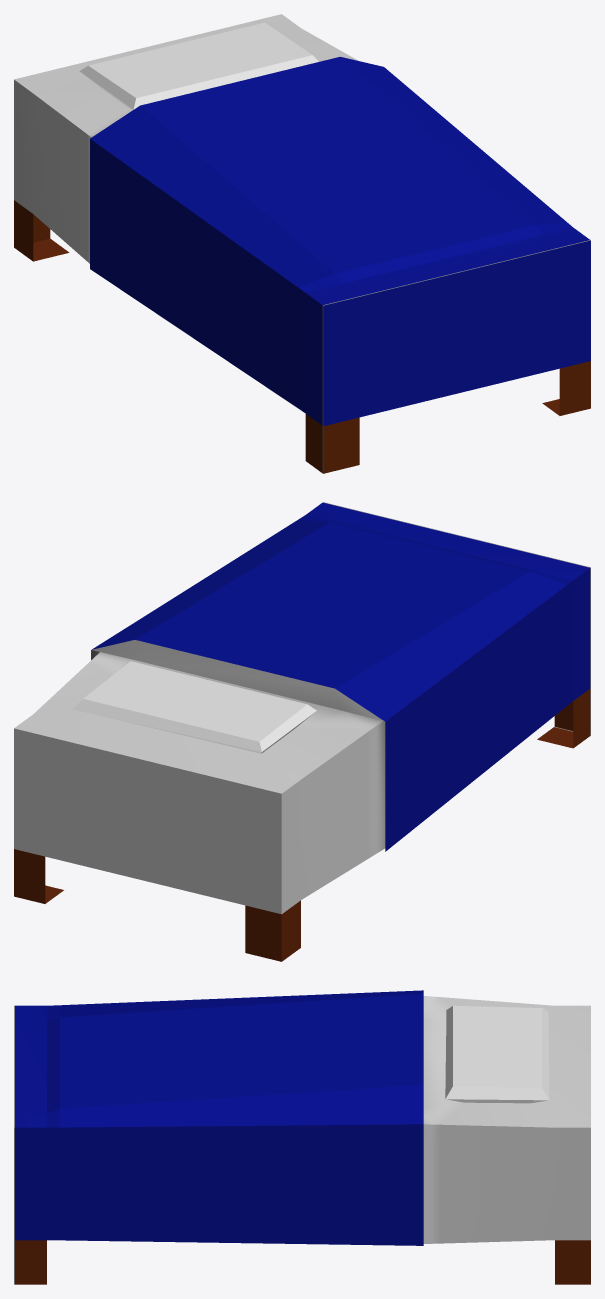
The model's file is Bed.FBX.
3 views of the same model, one above another, from view 1: azimuth 30°, elevation 25°; view 2: azimuth 150°, elevation 25°; view 3: azimuth 270°, elevation 25° (orthographic). The views are drawn at different scales.
Visible parts, largest first — view 1: Box001; view 2: Box001; view 3: Box001.
Part boxes in pixels (x1,y1,x2,y2): Box001: [14, 14, 590, 473]; Box001: [14, 502, 590, 961]; Box001: [14, 990, 590, 1284].
Size of the model in its own units: 110 by 70.92 by 200.
